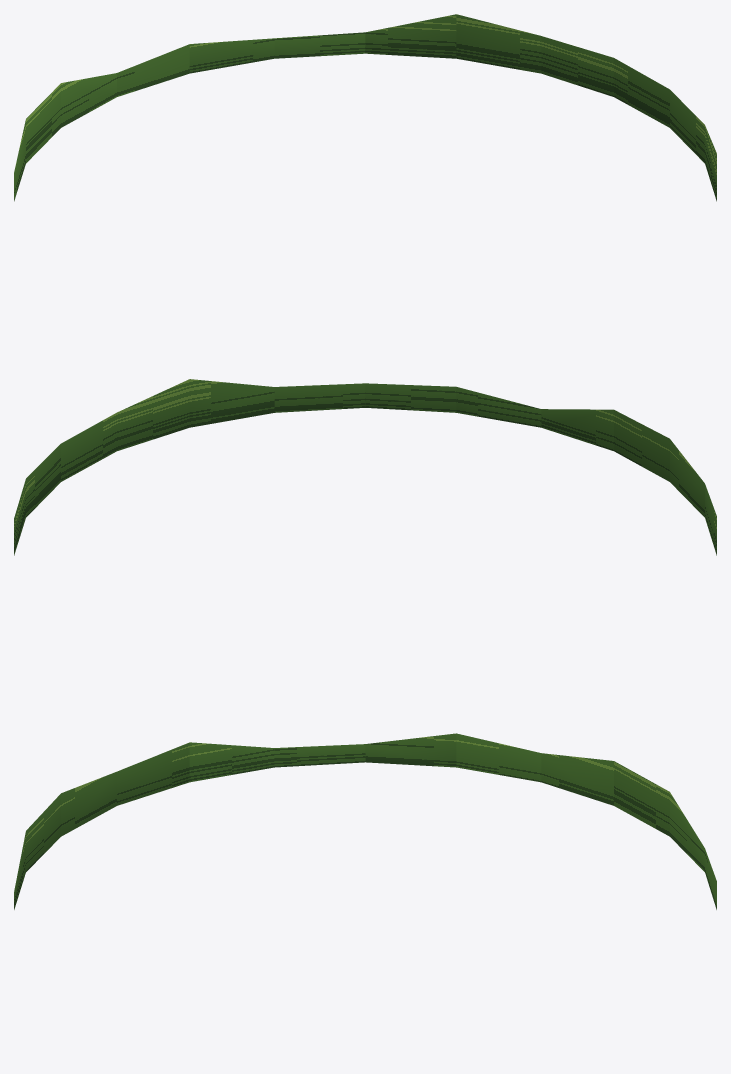
File: mter.backdrop__hills.glb
The picture shows the model from 3 angles, top to bottom: view 1: azimuth 30°, elevation 25°; view 2: azimuth 150°, elevation 25°; view 3: azimuth 270°, elevation 25°; orthographic projection.
Parts seen in each view (by area): view 1: kit_shell_vista; view 2: kit_shell_vista; view 3: kit_shell_vista.
Boxes of the visible parts, box(x1,y1,x2,y2) form: kit_shell_vista: box(14, 14, 716, 201); kit_shell_vista: box(14, 379, 716, 555); kit_shell_vista: box(14, 733, 716, 909).
Size of the model in its own units: 520 by 39.72 by 520.
1 material, 1 textured.
